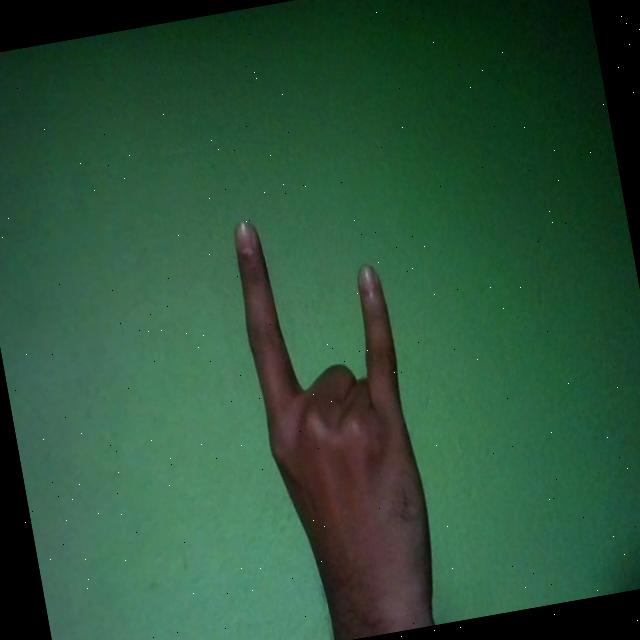open Plam: (228, 196, 448, 640)
